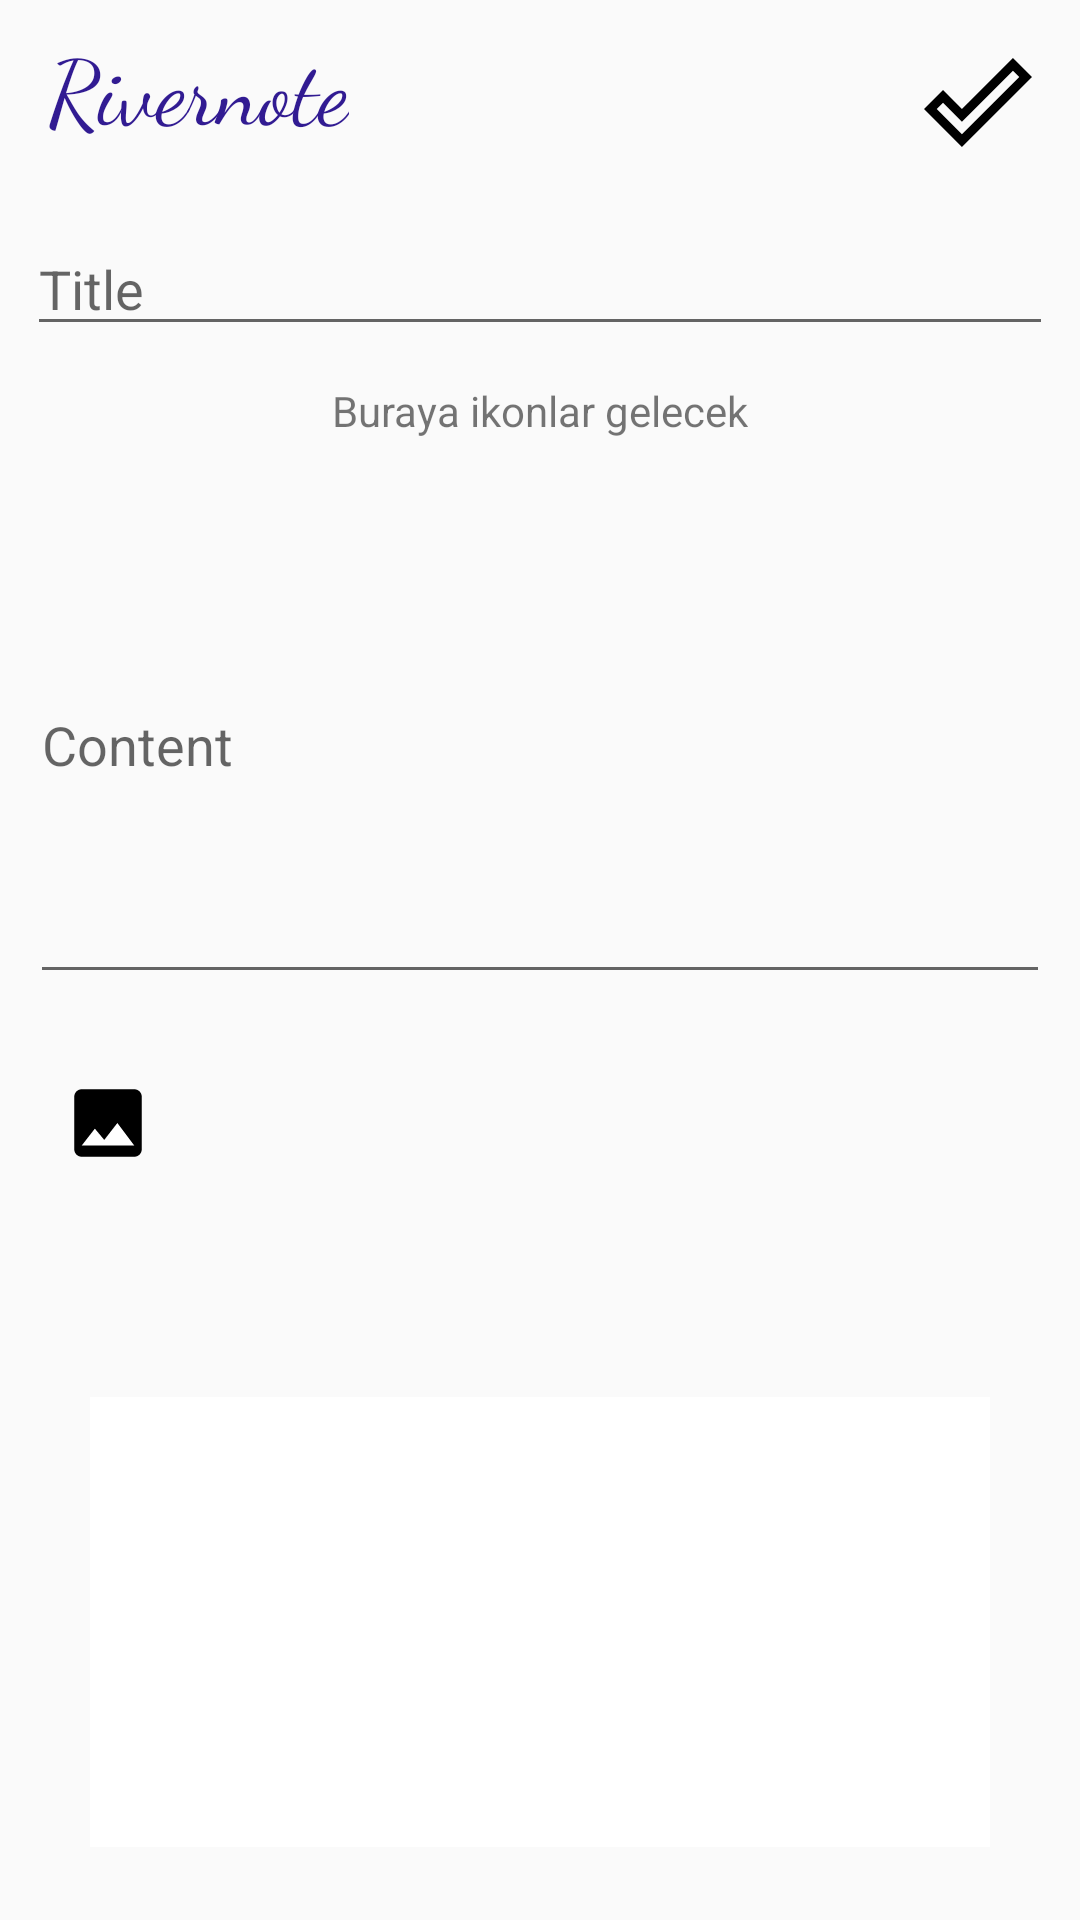

Icon click points for this 1080 x 1920 phone screenshot, format [x,y]:
done: [978,102]
